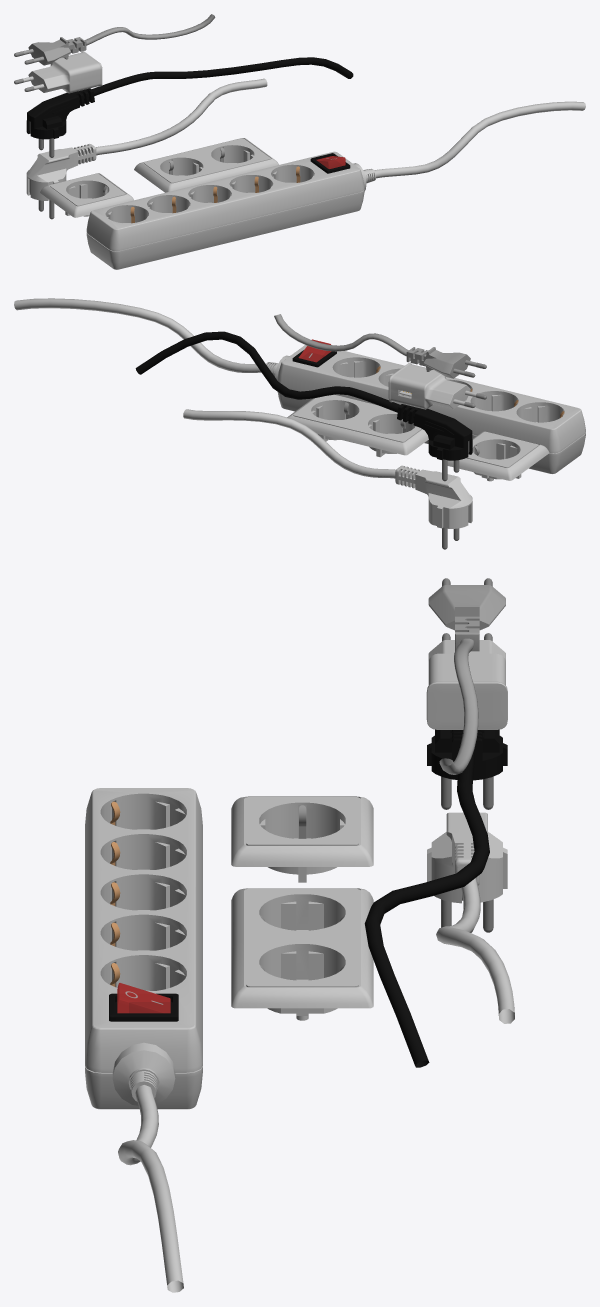
File: power_plug_-outlet_-adapter__connector_strip.glb
The picture shows the model from 3 angles, top to bottom: view 1: azimuth 30°, elevation 25°; view 2: azimuth 150°, elevation 25°; view 3: azimuth 270°, elevation 25°; orthographic projection. The views are drawn at different scales.
Parts seen in each view (by area): view 1: connector strip, power outlet 2, power outlet, power adapter, power plug, power plug 2 cable, power plug 2, connector strip cable, power plug 1 cable, power plug 3, power plug 3 cable; view 2: connector strip, power outlet 2, power plug, power outlet, power adapter, power plug 2 cable, connector strip cable, power plug 2, power plug 1 cable, power plug 3, power plug 3 cable, switch; view 3: connector strip, power outlet 2, power outlet, power plug 2 cable, power adapter, power plug, connector strip cable, power plug 2, power plug 3, power plug 1 cable, power plug 3 cable, switch.
Part boxes in pixels (box(x1,y1,x2,y2)): connector strip: box(86, 151, 375, 269); power outlet 2: box(134, 138, 278, 192); power outlet: box(40, 173, 133, 217); power adapter: box(14, 51, 102, 93); power plug: box(26, 144, 96, 219); power plug 2 cable: box(79, 57, 353, 101); power plug 2: box(26, 88, 94, 157); connector strip cable: box(374, 101, 585, 178); power plug 1 cable: box(78, 78, 267, 155); power plug 3: box(14, 37, 86, 65); power plug 3 cable: box(74, 14, 215, 46); connector strip: box(266, 345, 585, 474); power outlet 2: box(287, 394, 428, 457); power plug: box(395, 465, 472, 549); power outlet: box(447, 431, 549, 481); power adapter: box(388, 362, 486, 409); power plug 2 cable: box(135, 331, 414, 418); connector strip cable: box(14, 298, 261, 372); power plug 2: box(397, 404, 472, 481); power plug 1 cable: box(183, 409, 415, 478); power plug 3: box(406, 347, 486, 378); power plug 3 cable: box(274, 314, 423, 359); switch: box(298, 339, 331, 362); connector strip: box(85, 788, 202, 1109); power outlet 2: box(231, 888, 373, 1020); power outlet: box(231, 796, 373, 882); power plug 2 cable: box(364, 751, 489, 1067); power adapter: box(426, 633, 507, 729); power plug: box(427, 812, 507, 932); connector strip cable: box(118, 1085, 183, 1292); power plug 2: box(427, 729, 507, 809); power plug 3: box(428, 578, 505, 651); power plug 1 cable: box(436, 869, 514, 1023); power plug 3 cable: box(439, 638, 478, 774); switch: box(117, 983, 170, 1013).
Bounding box in the file's own units: 0.5169 × 0.1711 × 0.1943.
13 materials, 1 textured.
